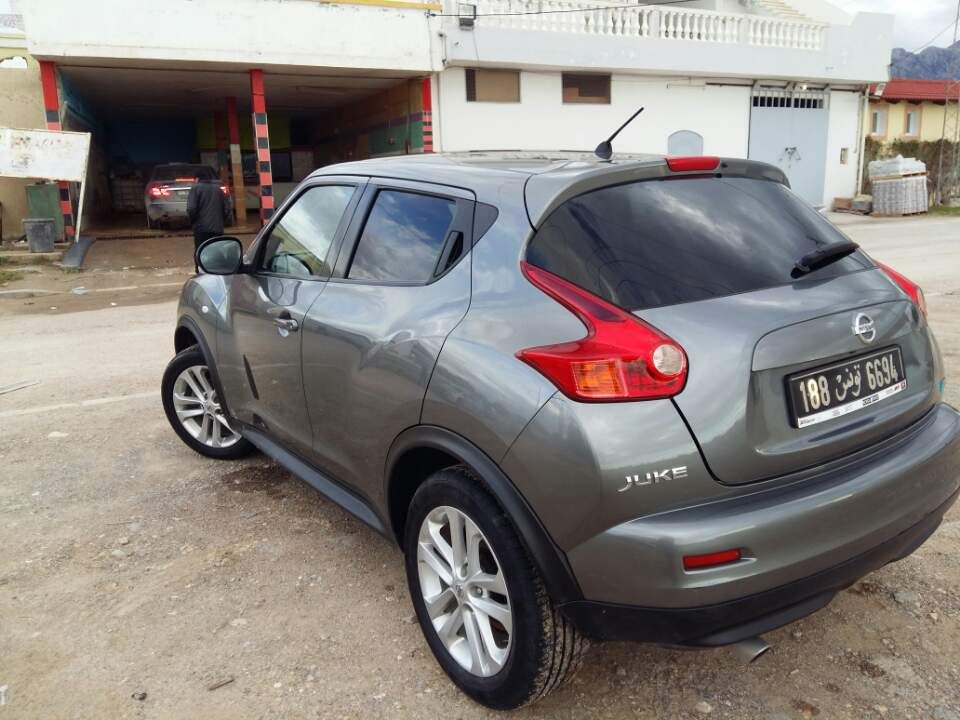LP: (788, 347, 907, 418)
